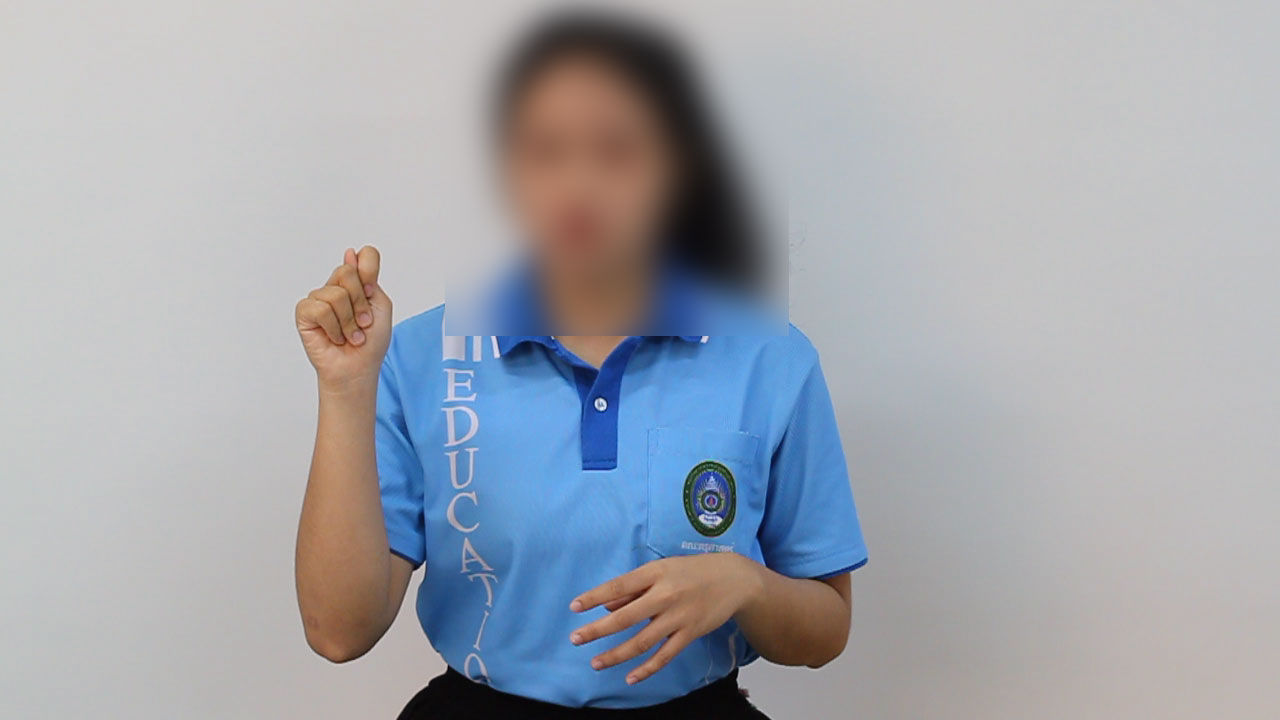tor: (273, 236, 408, 399)
